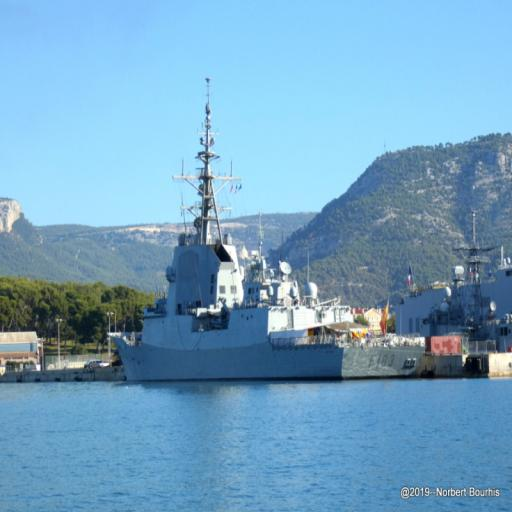Fragata: (101, 70, 434, 390)
